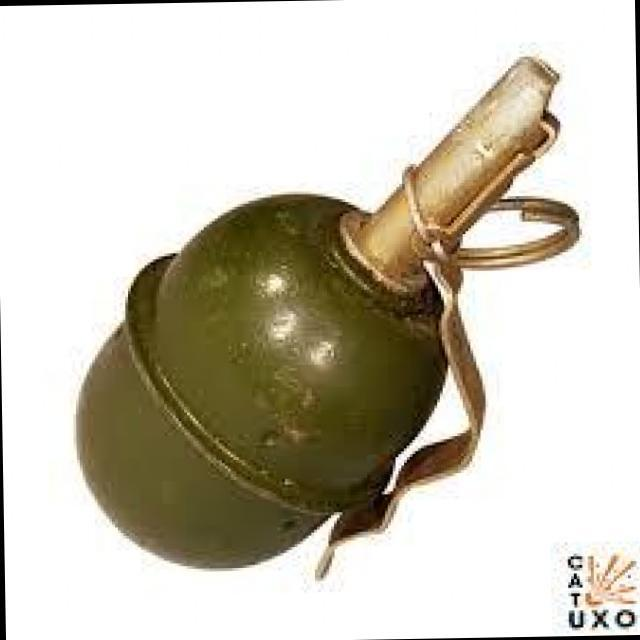grenade: (67, 45, 590, 598)
